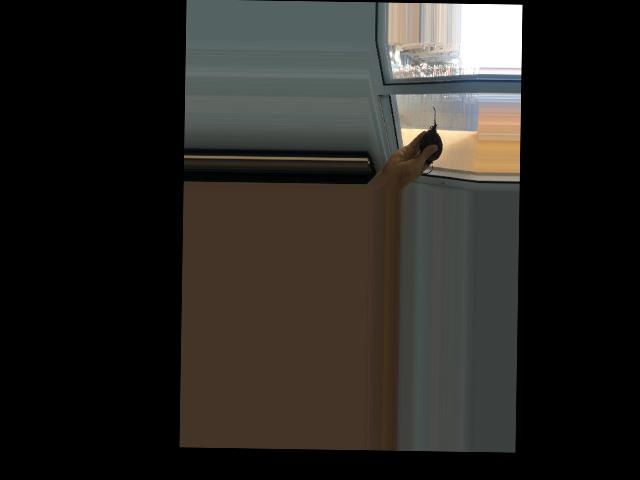beet: (412, 105, 443, 174)
